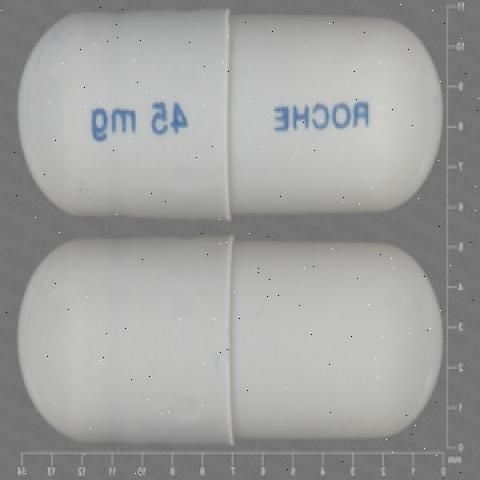Pill: (0, 216, 458, 458), (12, 4, 456, 227)
